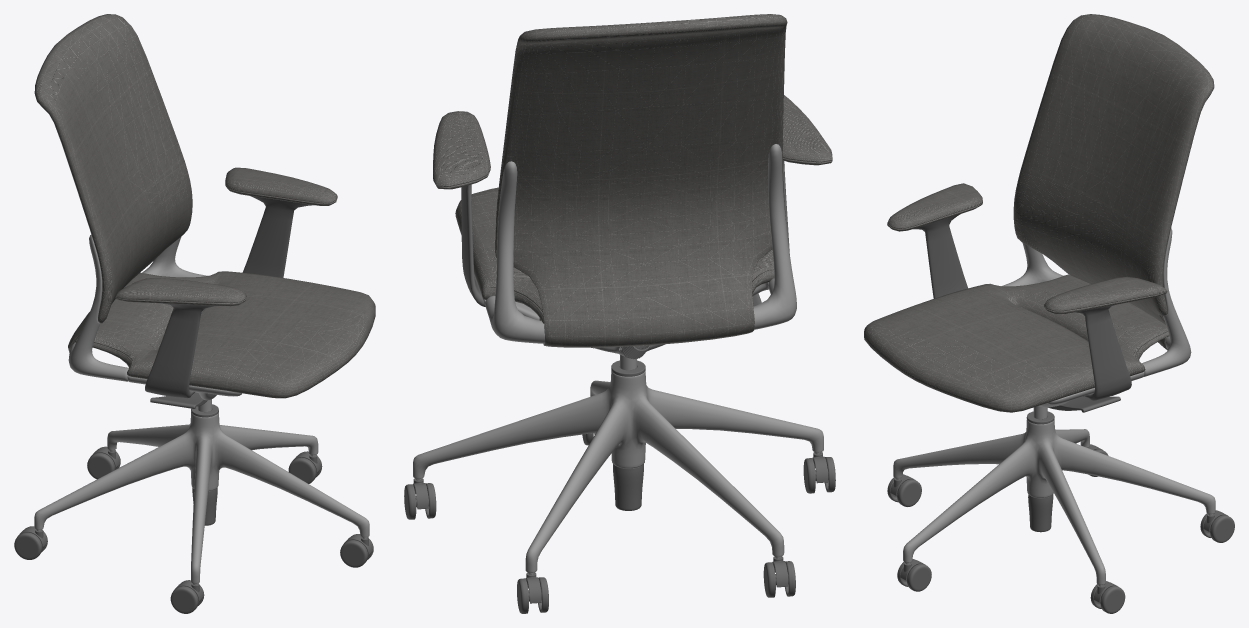
The model's file is Chair.gltf.
3 renders of one model, left to right at view 1: azimuth 30°, elevation 25°; view 2: azimuth 150°, elevation 25°; view 3: azimuth 270°, elevation 25°, orthographic. The views are drawn at different scales.
Visible parts, largest first — view 1: 办公椅04; view 2: 办公椅04; view 3: 办公椅04.
Part boxes in pixels (x1,y1,x2,y2): 办公椅04: (14, 14, 375, 613); 办公椅04: (404, 14, 835, 613); 办公椅04: (864, 14, 1234, 613).
Size of the model in its own units: 0.7528 by 1.08 by 0.7731.
3 materials, 1 textured.
